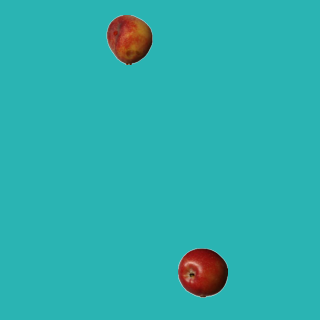Apple Braeburn: (177, 247, 227, 297)
Peach: (104, 14, 154, 64)
